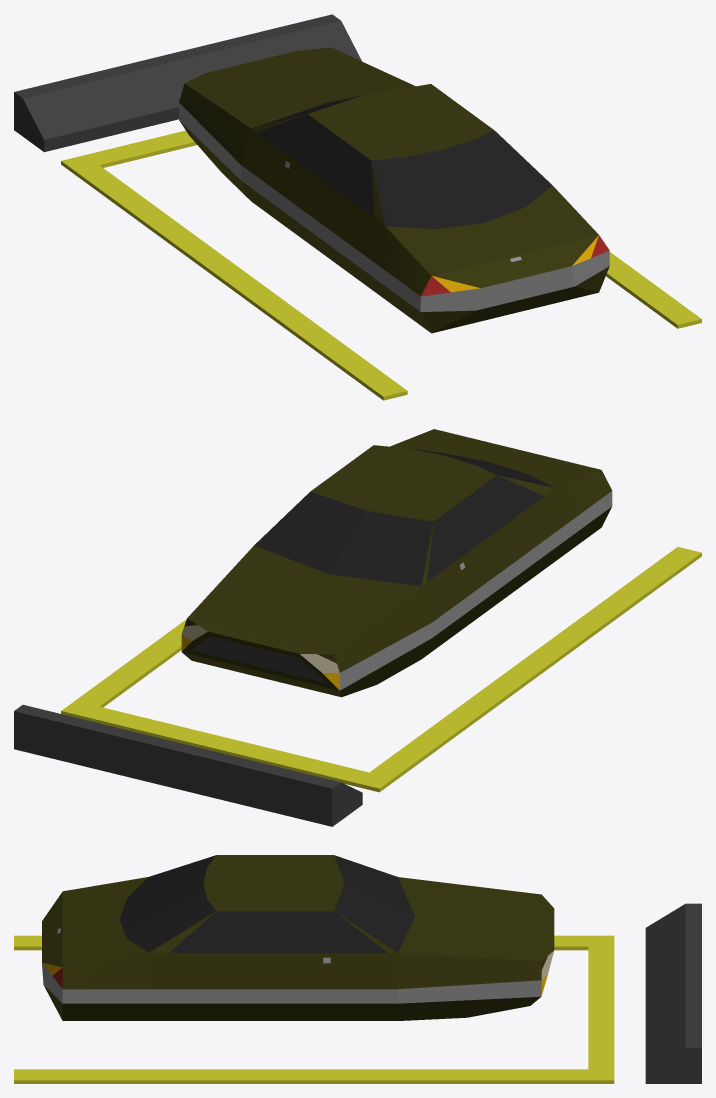
File: Car Tower Final.dae
3 renders of one model, top to bottom at view 1: azimuth 30°, elevation 25°; view 2: azimuth 150°, elevation 25°; view 3: azimuth 270°, elevation 25°, orthographic. The views are drawn at different scales.
Visible parts, largest first — view 1: Component_8 (×5), group_1 (×2); view 2: Component_8 (×7), group_1 (×2); view 3: Component_8 (×7), group_1 (×2).
Boxes of the visible parts, x1,y1,x2,y2 form: Component_8 (×5): [179, 47, 609, 333]; group_1 (×2): [14, 14, 701, 400]; Component_8 (×7): [182, 429, 612, 697]; group_1 (×2): [14, 547, 701, 826]; Component_8 (×7): [42, 855, 554, 1020]; group_1 (×2): [14, 903, 701, 1083].
Size of the model in its own units: 137 by 276 by 56.49.
